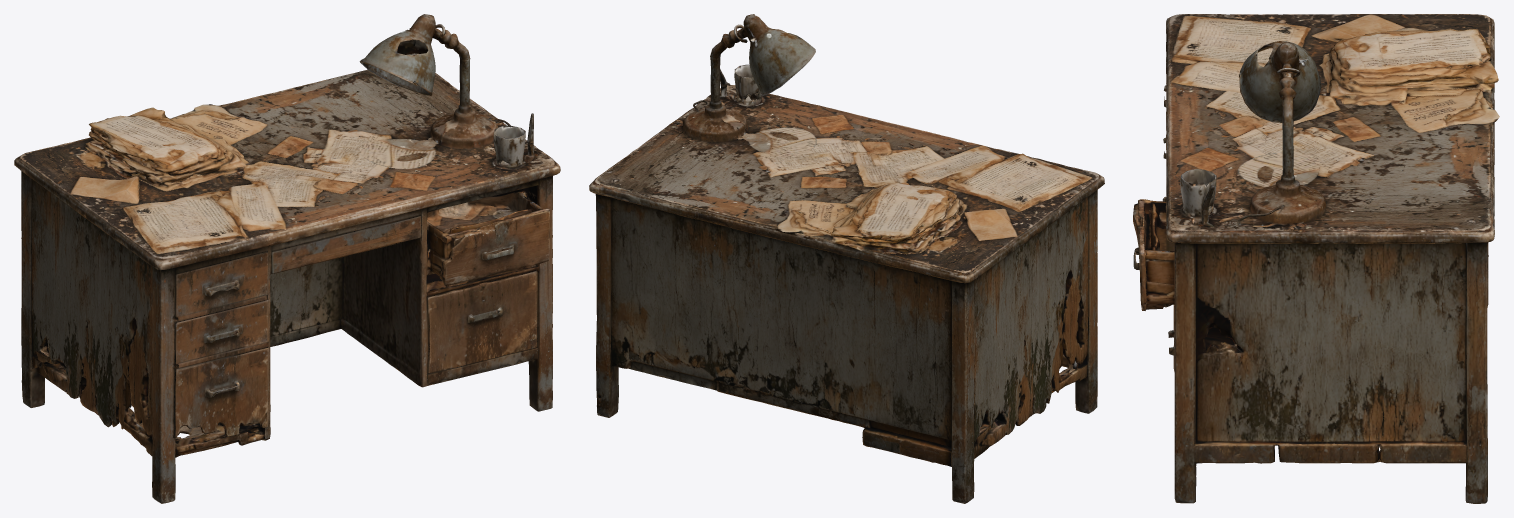
File: OfficeDesk.fbx
The picture shows the model from 3 angles, left to right: view 1: azimuth 30°, elevation 25°; view 2: azimuth 150°, elevation 25°; view 3: azimuth 270°, elevation 25°; orthographic projection. The views are drawn at different scales.
Parts seen in each view (by area): view 1: texture_mapping; view 2: texture_mapping; view 3: texture_mapping.
Part boxes in pixels (box(x1,y1,x2,y2)): texture_mapping: box(14, 14, 560, 503); texture_mapping: box(589, 14, 1104, 503); texture_mapping: box(1133, 14, 1499, 503).
Size of the model in its own units: 1 by 0.7053 by 0.8908.
Materials: 1 (1 with a texture image).
